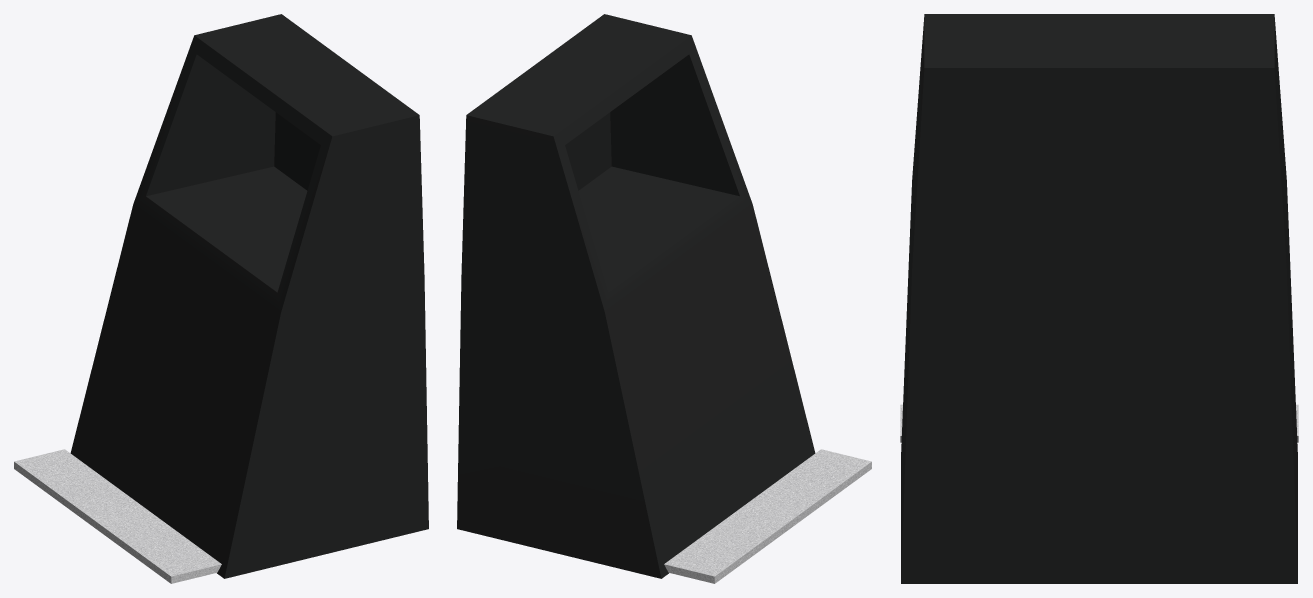
Rendered from LucasTan_rubbishBin.fbx.
3 views of the same model, side by side, from view 1: azimuth 30°, elevation 25°; view 2: azimuth 150°, elevation 25°; view 3: azimuth 270°, elevation 25° (orthographic). The views are drawn at different scales.
Visible parts, largest first — view 1: RubbishThrow1; view 2: RubbishThrow1; view 3: RubbishThrow1.
Part boxes in pixels (bbox=[...]): RubbishThrow1: bbox=[14, 14, 428, 583]; RubbishThrow1: bbox=[457, 14, 871, 583]; RubbishThrow1: bbox=[900, 14, 1298, 583].
Bounding box in the file's own units: 0.7124 × 1.07 × 0.7516.
